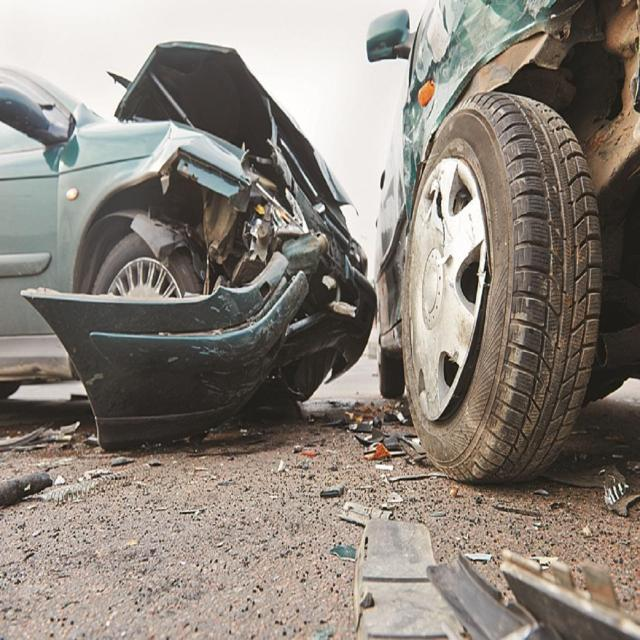accident: (0, 43, 375, 449)
